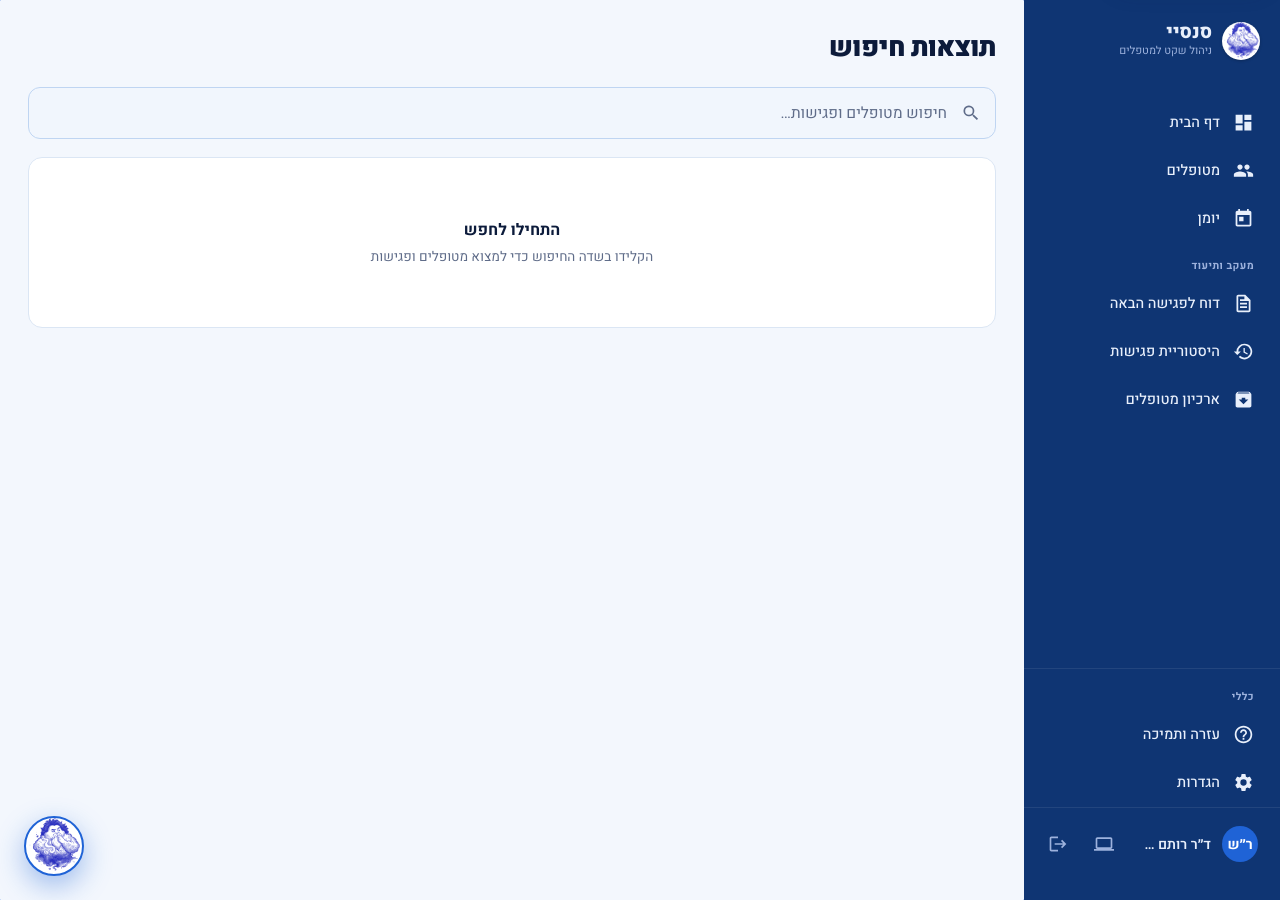
Test case: actionable dead-ends › search "no results" offers a create-patient recovery action
Type "zzzzנעלמתמופלxxx" into the field with class "search-main-input". click: (512,113)
box: top-left (28, 87), bottom-right (996, 139)
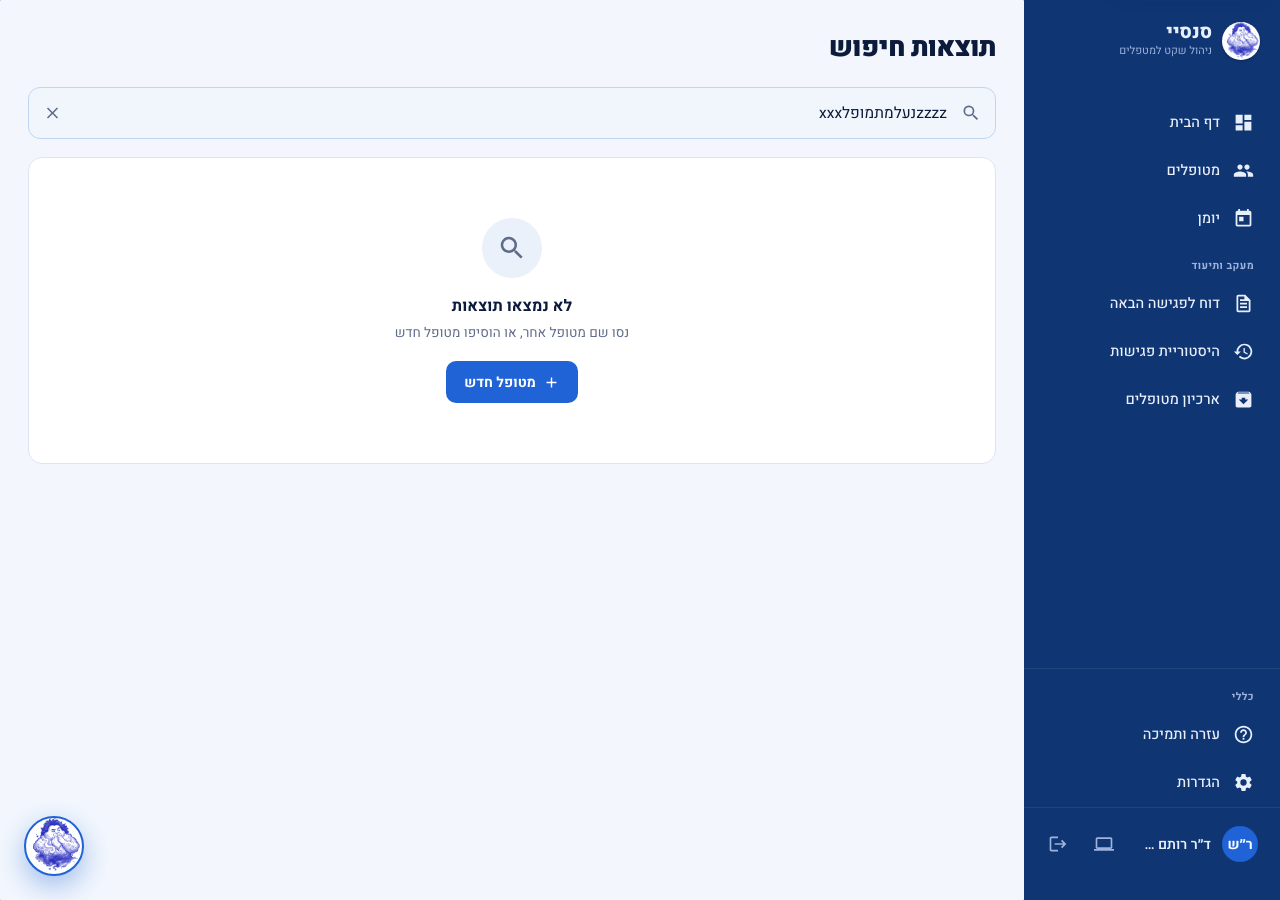
Result: the text "לא נמצאו תוצאות" is shown at top-left (452, 294), bottom-right (572, 318)
